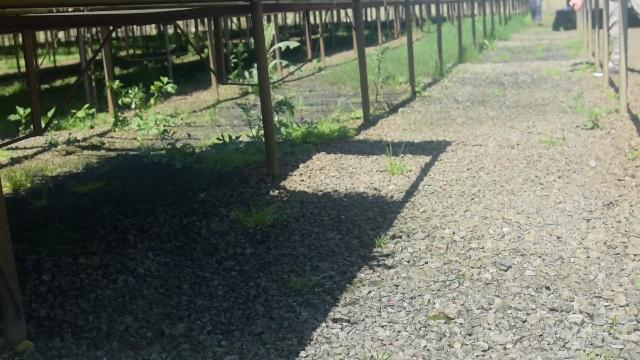MalezaMontesDelPlata: (228, 20, 298, 147), (103, 68, 188, 134), (143, 130, 266, 170), (227, 194, 286, 234), (274, 116, 357, 143), (368, 37, 393, 120), (0, 155, 40, 194), (380, 137, 414, 180), (571, 101, 609, 135), (67, 170, 104, 200), (70, 100, 99, 135), (279, 269, 319, 293), (6, 98, 34, 131)
